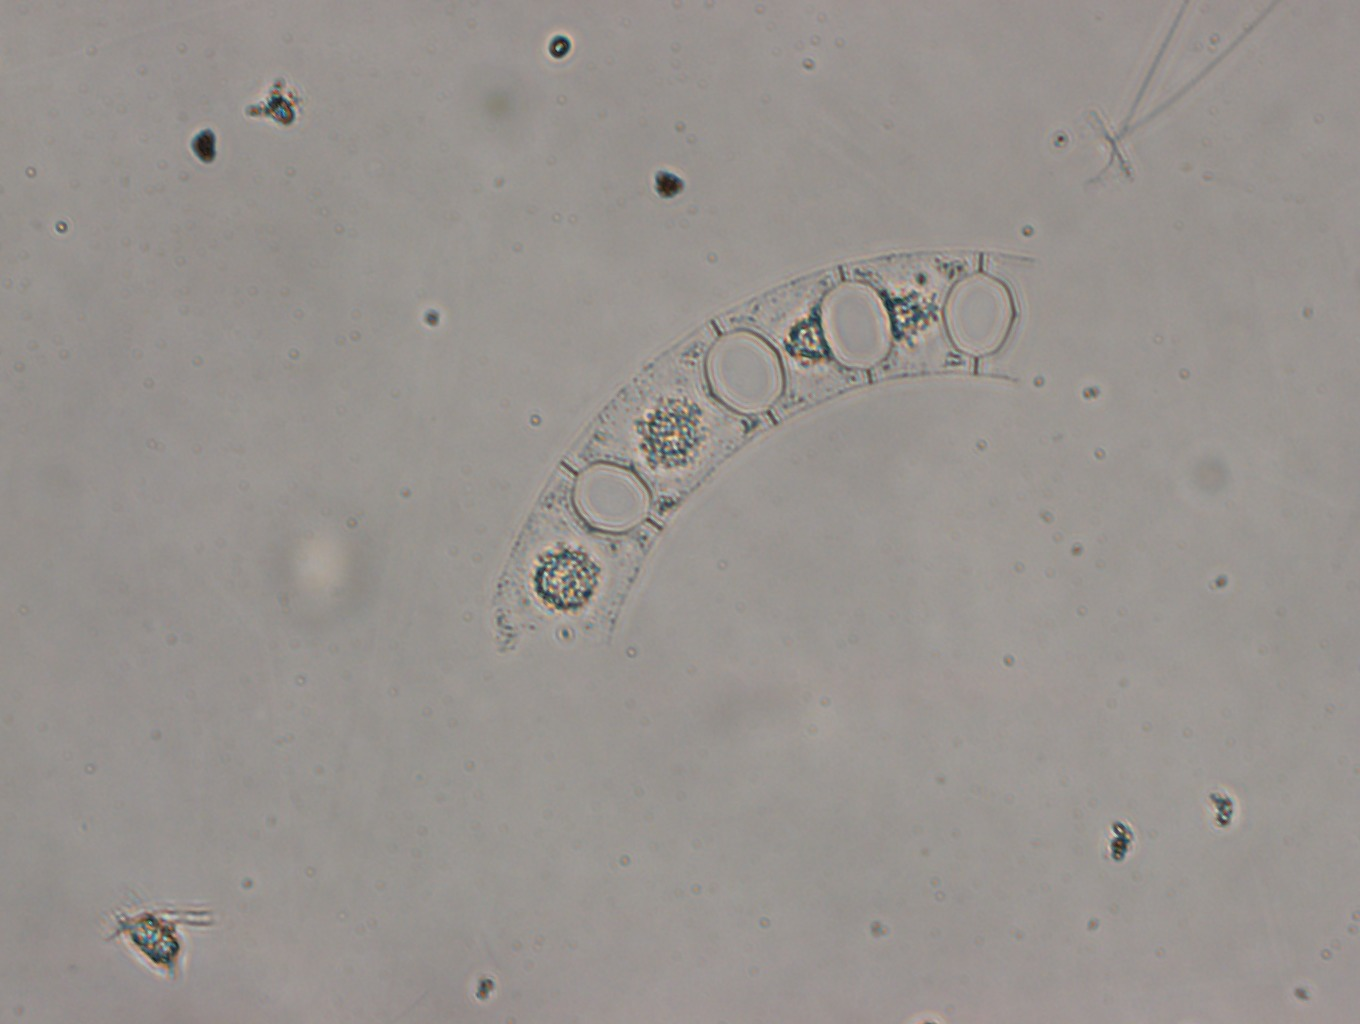eucampia: (491, 250, 1037, 651)
